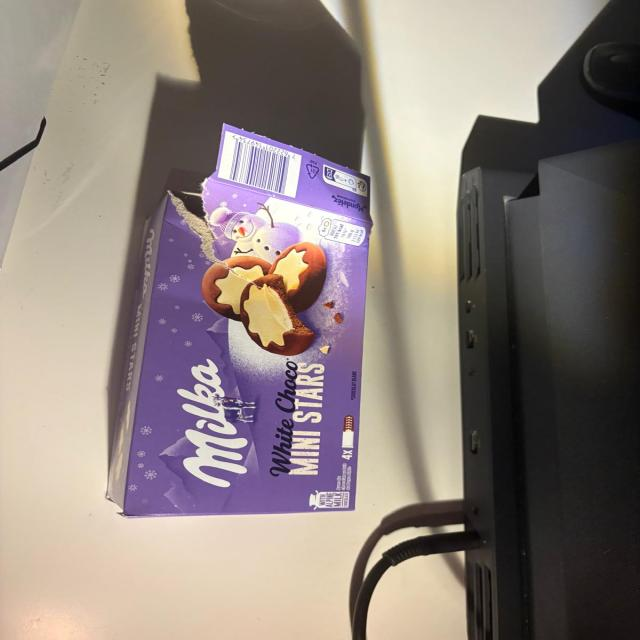damaged_package: (104, 123, 376, 517)
